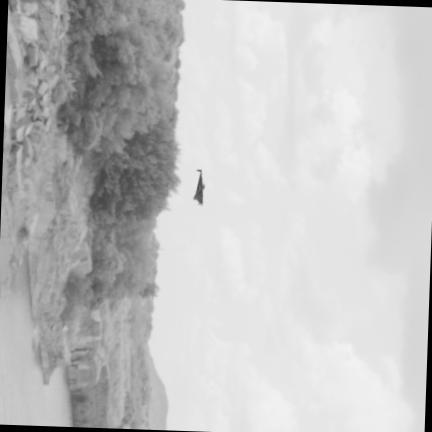Shahed: (193, 170, 204, 205)
